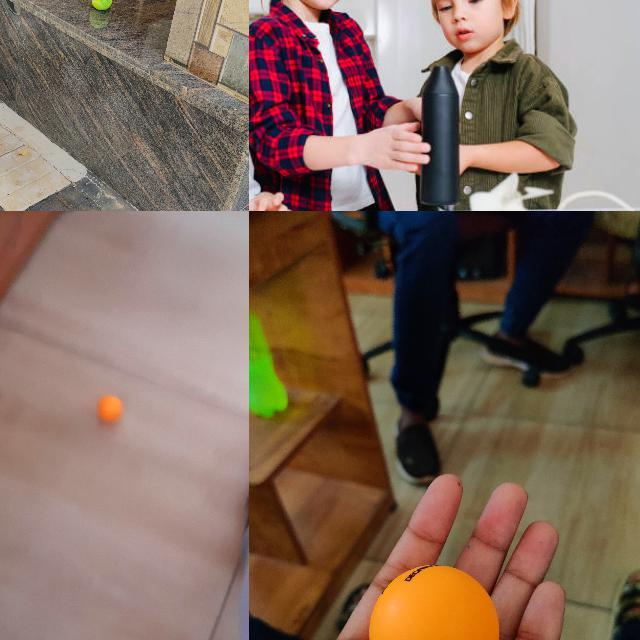ping-pong-ball: (367, 565, 498, 639), (96, 394, 124, 426)
